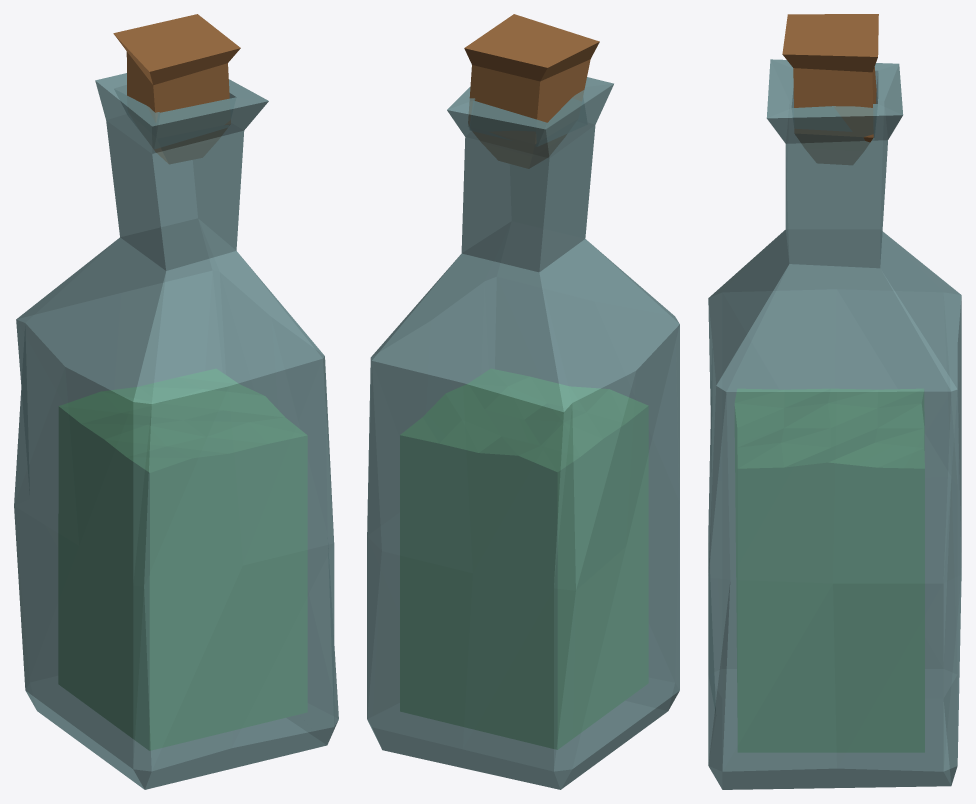
The model's file is GreenPotion_S.fbx.
3 views of the same model, side by side, from view 1: azimuth 30°, elevation 25°; view 2: azimuth 150°, elevation 25°; view 3: azimuth 270°, elevation 25° (orthographic). The views are drawn at different scales.
Parts seen in each view (by area): view 1: PotionBottle, Potion, Coke; view 2: PotionBottle, Potion, Coke; view 3: PotionBottle, Potion, Coke.
Boxes of the visible parts, x1,y1,x2,y2 form: PotionBottle: [14, 73, 338, 789]; Potion: [58, 369, 307, 750]; Coke: [113, 14, 240, 163]; PotionBottle: [367, 77, 679, 789]; Potion: [400, 369, 648, 749]; Coke: [464, 14, 599, 168]; PotionBottle: [708, 59, 961, 789]; Potion: [735, 389, 924, 752]; Coke: [782, 14, 878, 164].
Bounding box in the file's own units: 60.89 × 184 × 59.82.
